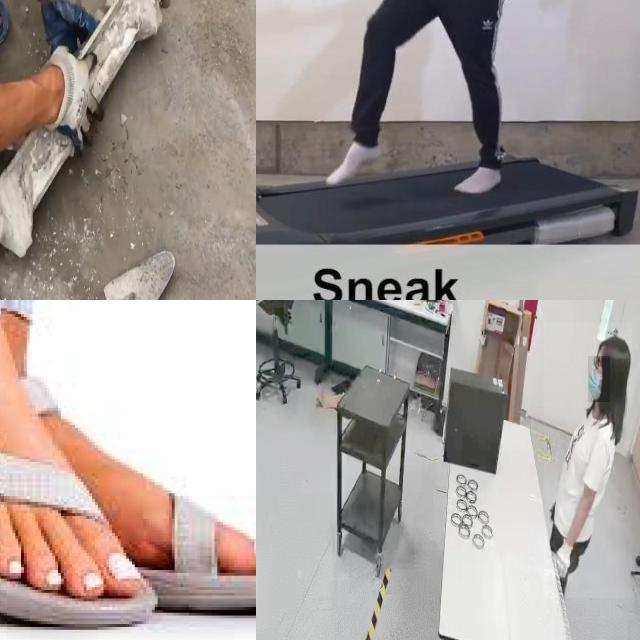Sandals: (0, 300, 156, 626)
face_mask: (588, 356, 610, 402)
hand_glove: (38, 44, 106, 153), (40, 0, 97, 46), (553, 536, 577, 582)
head_nohelmet: (594, 334, 630, 358)
person: (323, 0, 529, 193), (544, 322, 632, 599)
